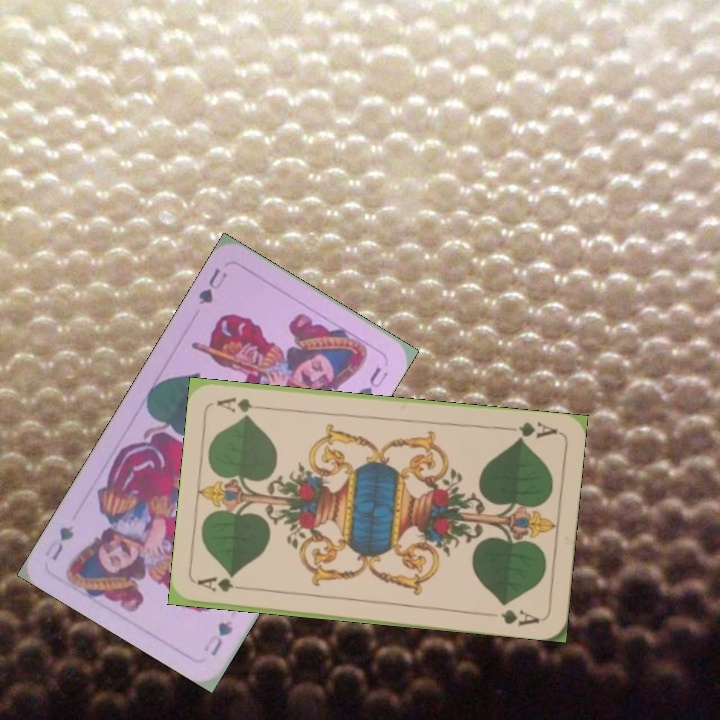GA: (194, 573, 254, 594), (513, 417, 560, 443)
GU: (199, 616, 236, 659), (194, 263, 230, 307)
